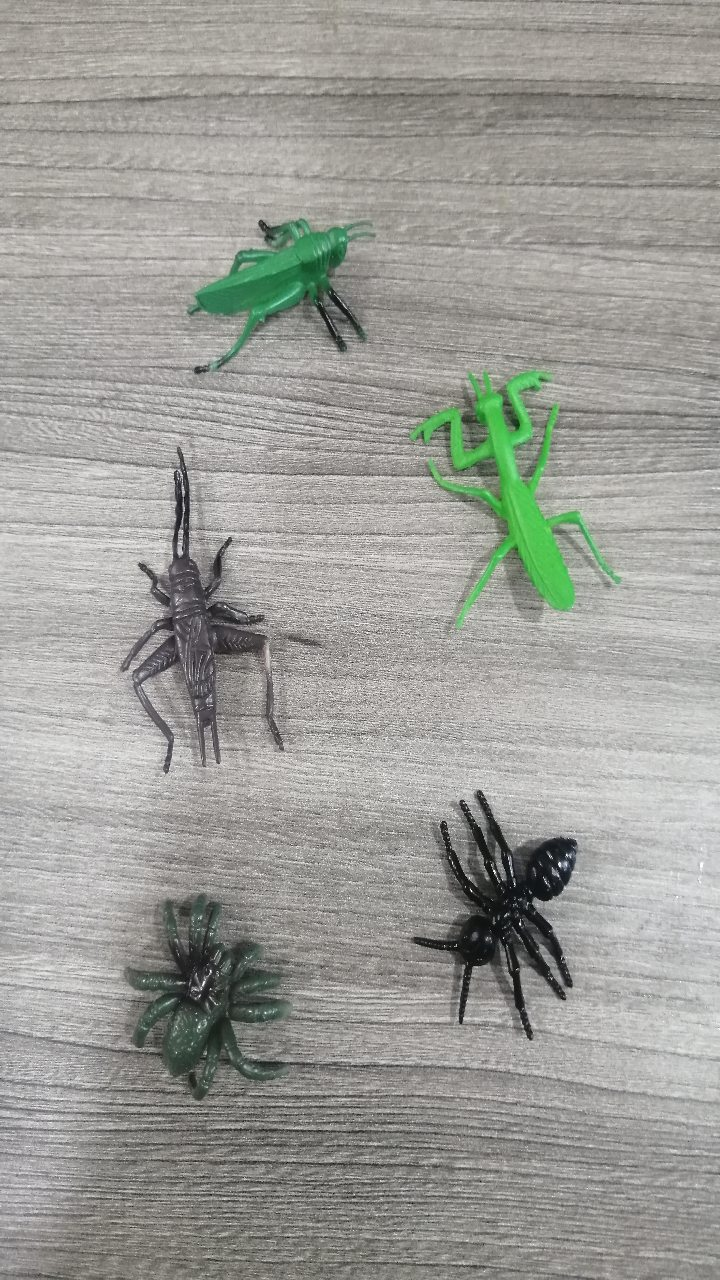intruso: (383, 325, 632, 654), (384, 749, 631, 1048), (95, 451, 295, 782), (94, 863, 315, 1142), (143, 179, 375, 395)
